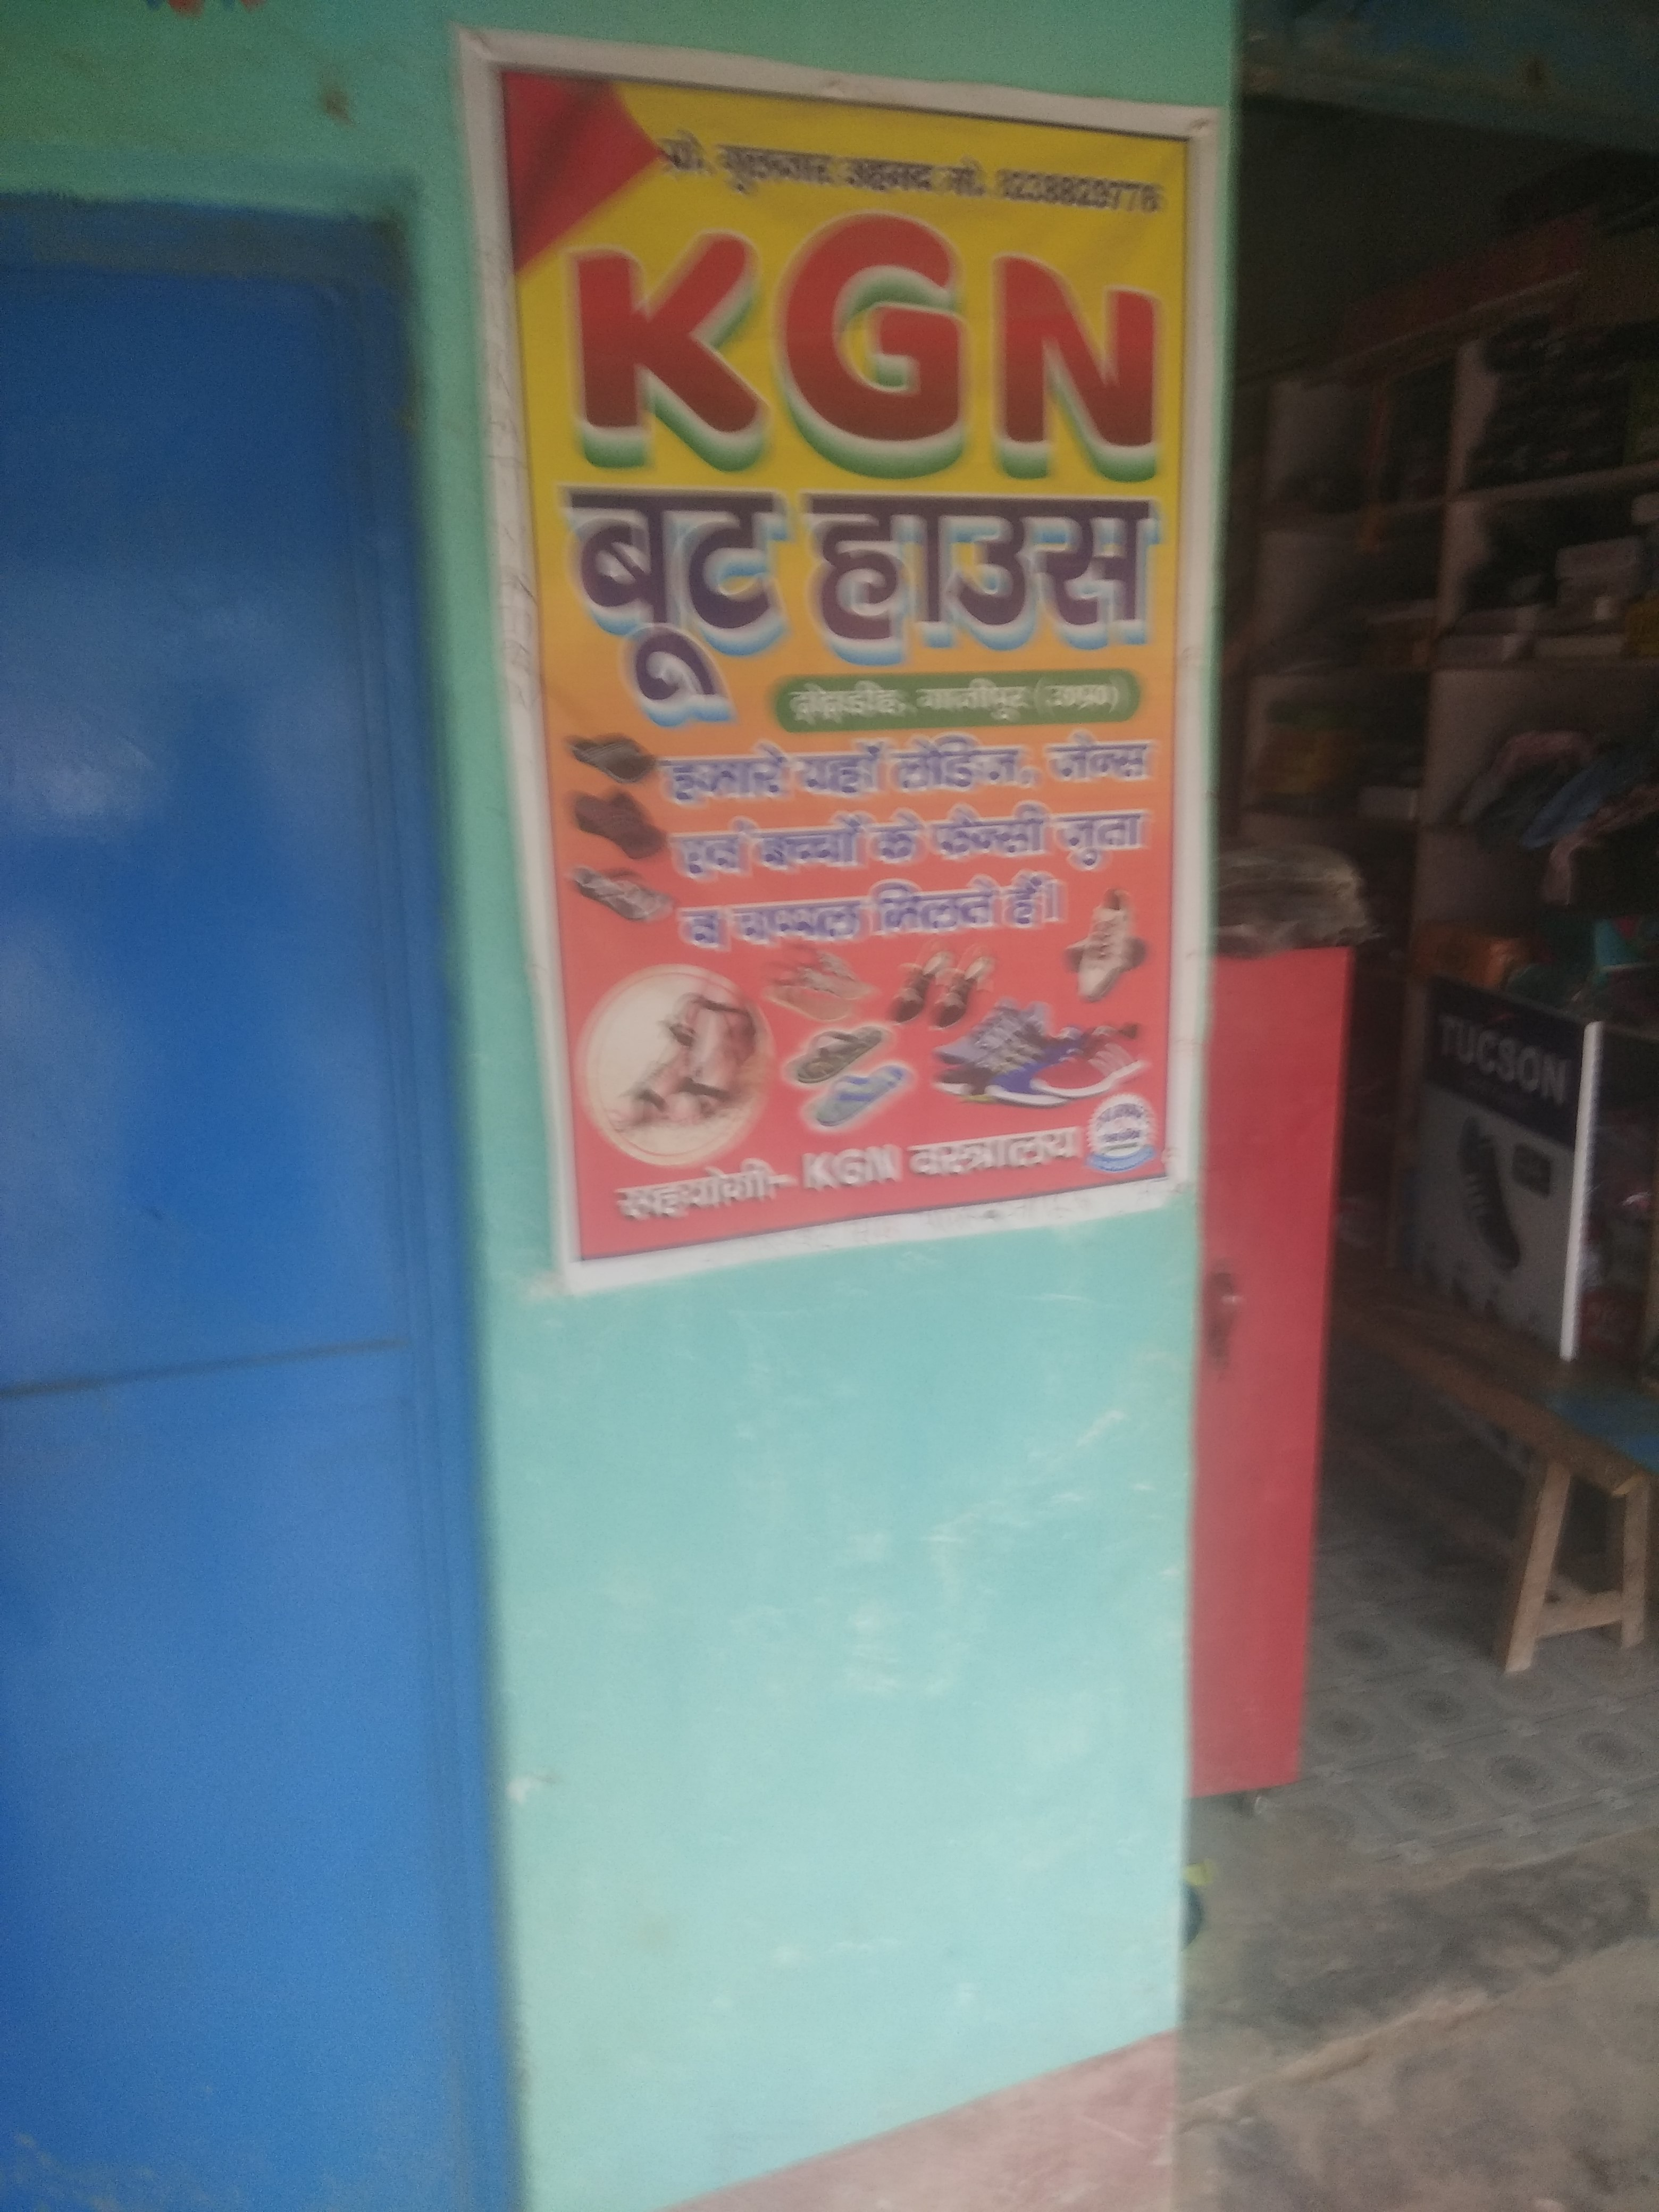text: (446, 24, 1209, 1305)
